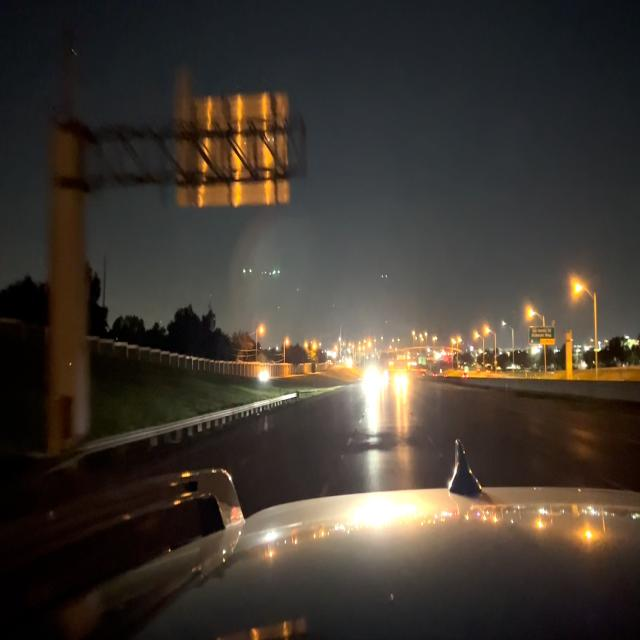back-of-sign: (178, 101, 286, 199), (175, 64, 193, 98)
